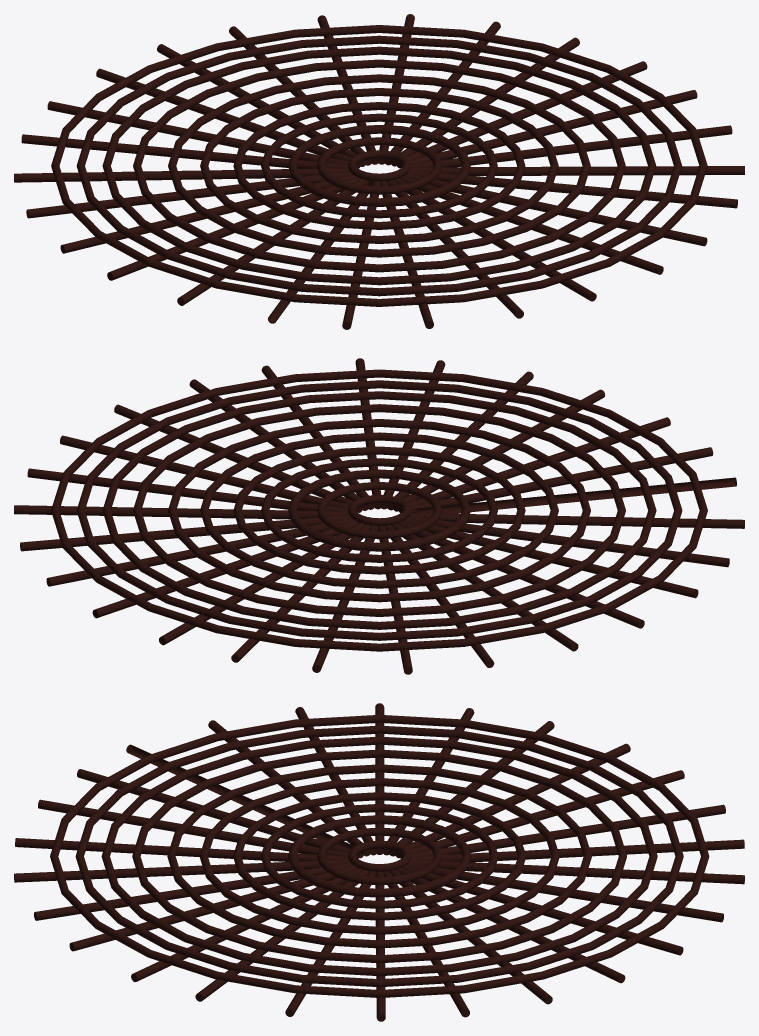
Rendered from TopFloorCage.fbx.
3 renders of one model, top to bottom at view 1: azimuth 30°, elevation 25°; view 2: azimuth 150°, elevation 25°; view 3: azimuth 270°, elevation 25°, orthographic.
Visible parts, largest first — view 1: Torus; view 2: Torus; view 3: Torus.
Part boxes in pixels (box(x1,y1,x2,y2)): Torus: box(14, 14, 744, 329); Torus: box(14, 358, 744, 674); Torus: box(14, 703, 744, 1021).
Bounding box in the file's own units: 1777 × 37.87 × 1769.
